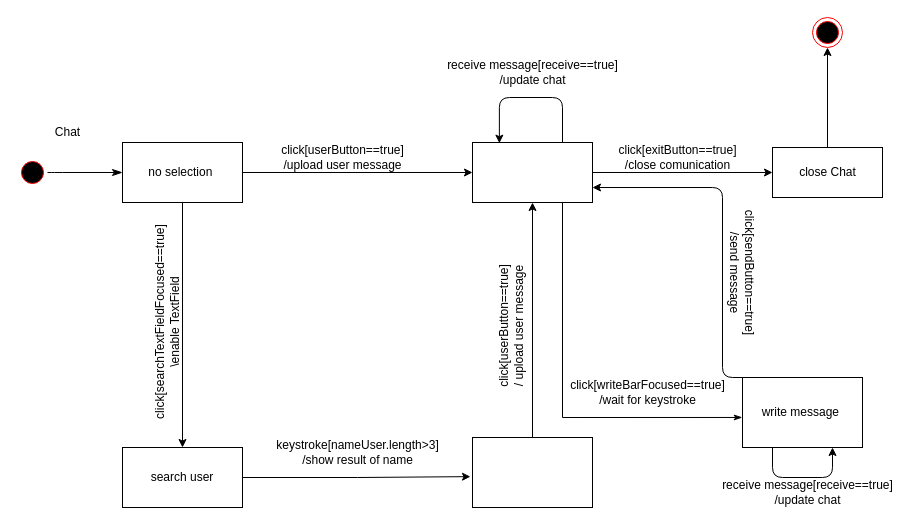
Image size: 920x525. Some labels were removed from this diagram. Each missing label, with the centre of its shape:
show chat: pixel 532 172
show result: pixel 532 472
